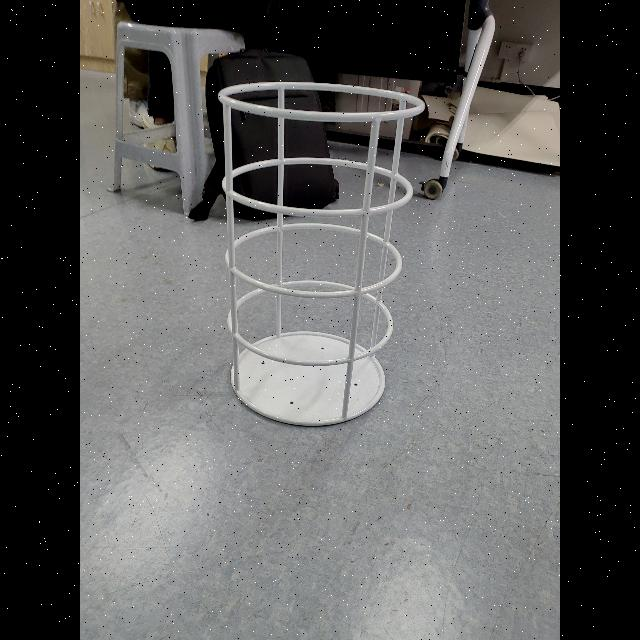S: (210, 78, 432, 430)
